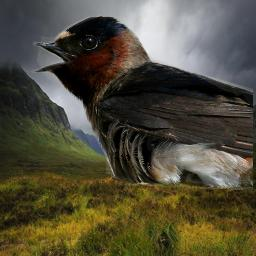Swallow: (31, 15, 253, 190)
